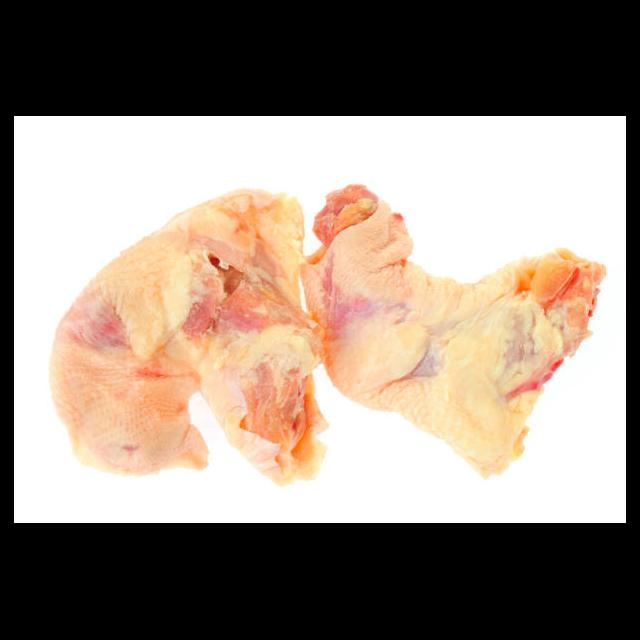chicken: (46, 184, 607, 482)
